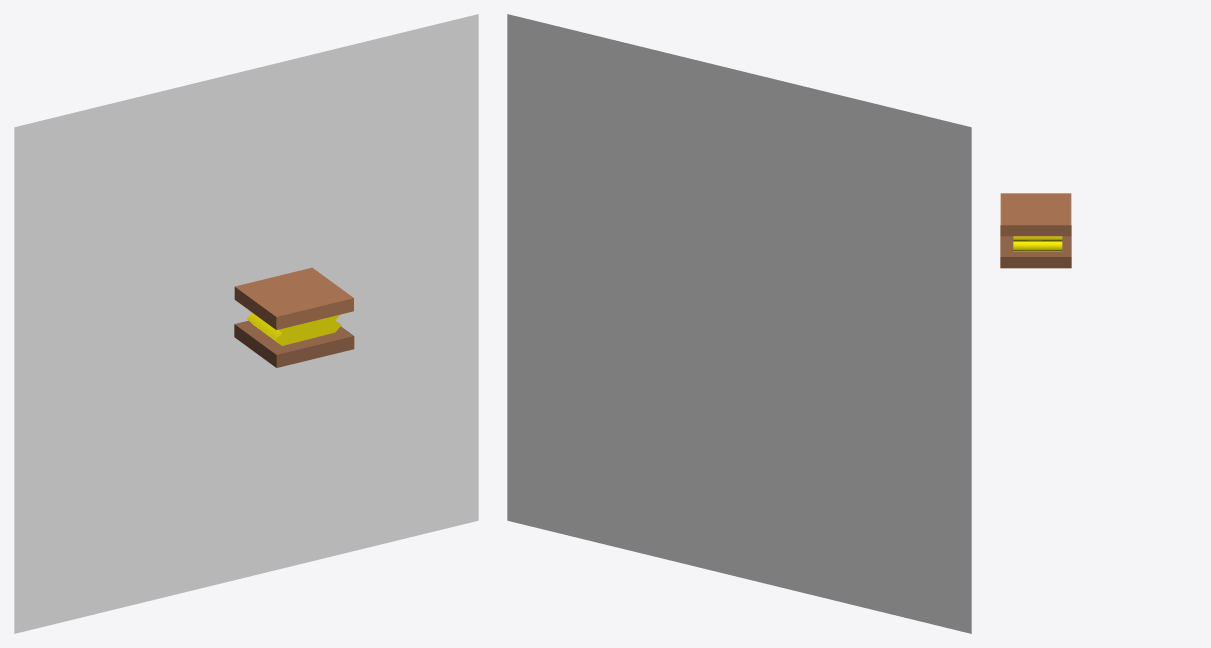
Rendered from dust_jump2.fbx.
3 renders of one model, left to right at view 1: azimuth 30°, elevation 25°; view 2: azimuth 150°, elevation 25°; view 3: azimuth 270°, elevation 25°, orthographic. The views are drawn at different scales.
Visible parts, largest first — view 1: root, node_id137 (×3); view 2: root; view 3: node_id137 (×4).
Boxes of the visible parts, x1,y1,x2,y2 form: root: (14,14,478,633); node_id137 (×3): (234,267,354,367); root: (507,14,971,633); node_id137 (×4): (1000,193,1071,268).
Size of the model in its own units: 564 by 588 by 244.
5 materials, 5 textured.
